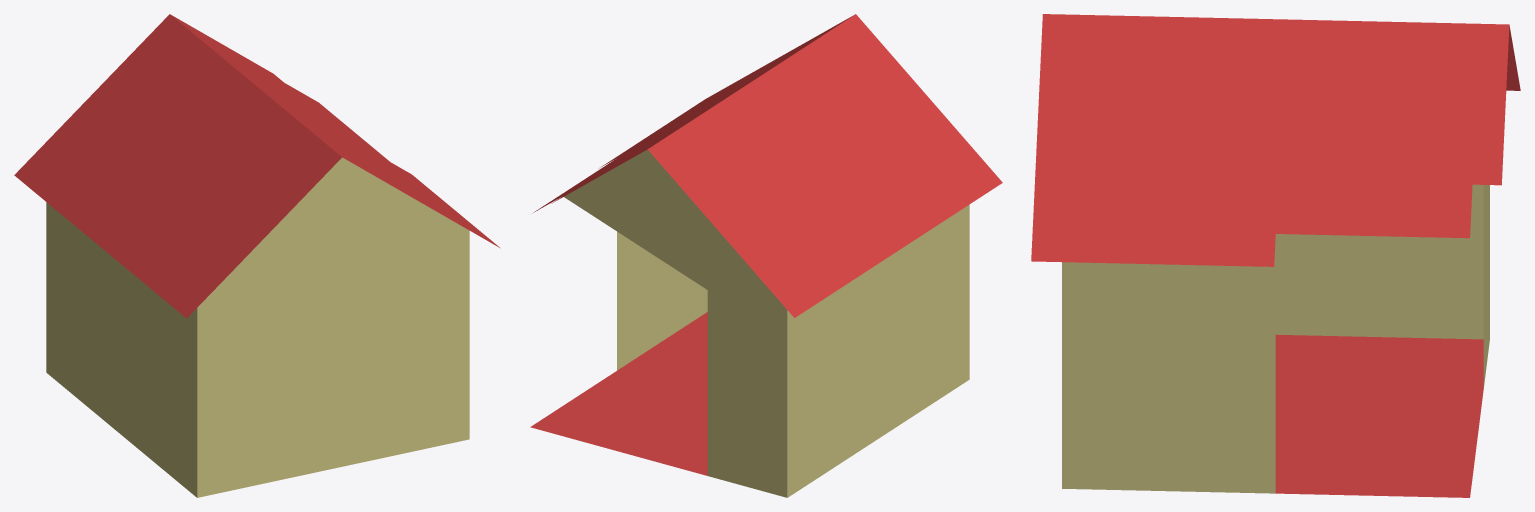
The picture shows the model from 3 angles, left to right: view 1: azimuth 30°, elevation 25°; view 2: azimuth 150°, elevation 25°; view 3: azimuth 270°, elevation 25°; orthographic projection. The views are drawn at different scales.
Bounding box in the file's own units: 11.4 × 12.51 × 11.1.
